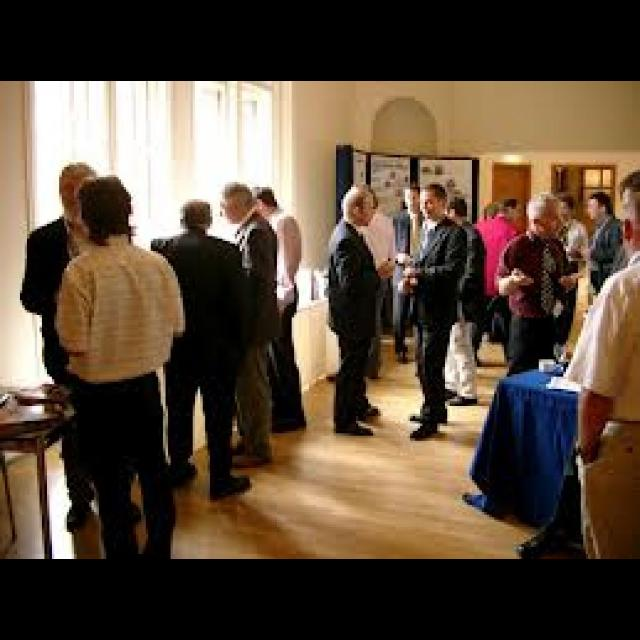head: (80, 181, 130, 235), (58, 163, 98, 214), (221, 182, 255, 224), (343, 188, 377, 228), (529, 198, 563, 236), (180, 199, 213, 235), (418, 183, 449, 220), (248, 187, 274, 217), (590, 192, 612, 222), (360, 188, 380, 215), (446, 200, 468, 224), (552, 196, 574, 220), (504, 198, 524, 224), (404, 186, 422, 210), (484, 204, 508, 222)
person: (17, 160, 161, 532), (149, 198, 259, 504), (490, 190, 584, 436), (394, 180, 472, 446), (214, 178, 284, 472), (325, 186, 399, 442), (240, 184, 312, 438), (322, 186, 402, 386), (558, 186, 632, 380), (422, 200, 488, 412), (392, 184, 458, 393), (532, 192, 596, 372), (465, 200, 515, 370), (482, 195, 528, 373)
